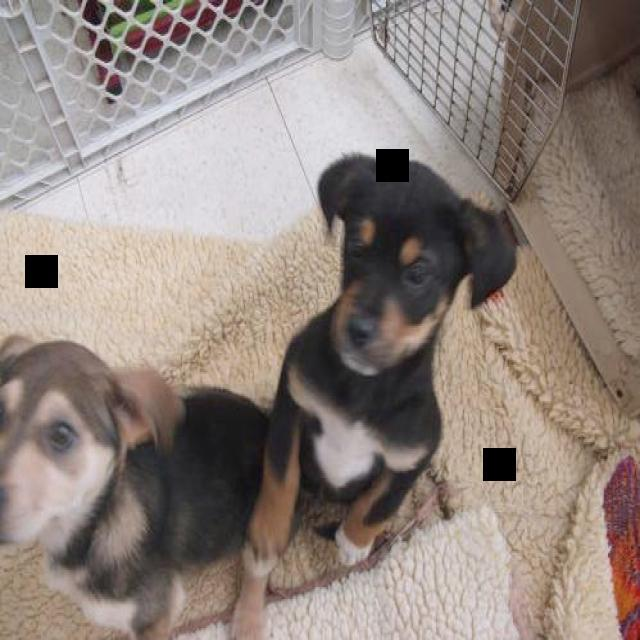puppy-dog: (240, 154, 521, 576), (1, 328, 276, 640)
